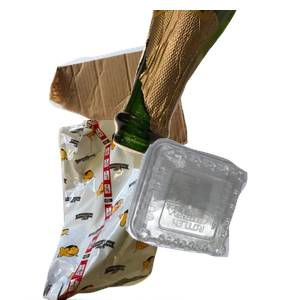cardboard: (46, 40, 226, 179)
glass: (111, 10, 300, 158)
plastic: (123, 136, 300, 300)
trash: (25, 120, 198, 300)
